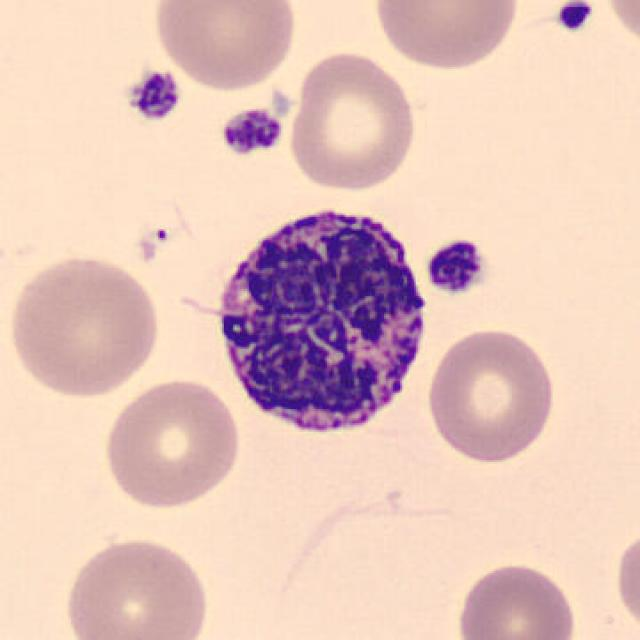Basophil: (208, 190, 437, 450)
Platelets: (423, 236, 489, 296), (217, 106, 286, 157), (126, 67, 183, 123), (551, 0, 597, 35)
RBC: (267, 487, 471, 638), (3, 249, 165, 400), (286, 46, 422, 196), (421, 322, 560, 466), (100, 374, 243, 511), (59, 532, 213, 640), (149, 0, 300, 93), (368, 0, 524, 74), (452, 559, 582, 640), (611, 523, 640, 638), (597, 0, 639, 56)
